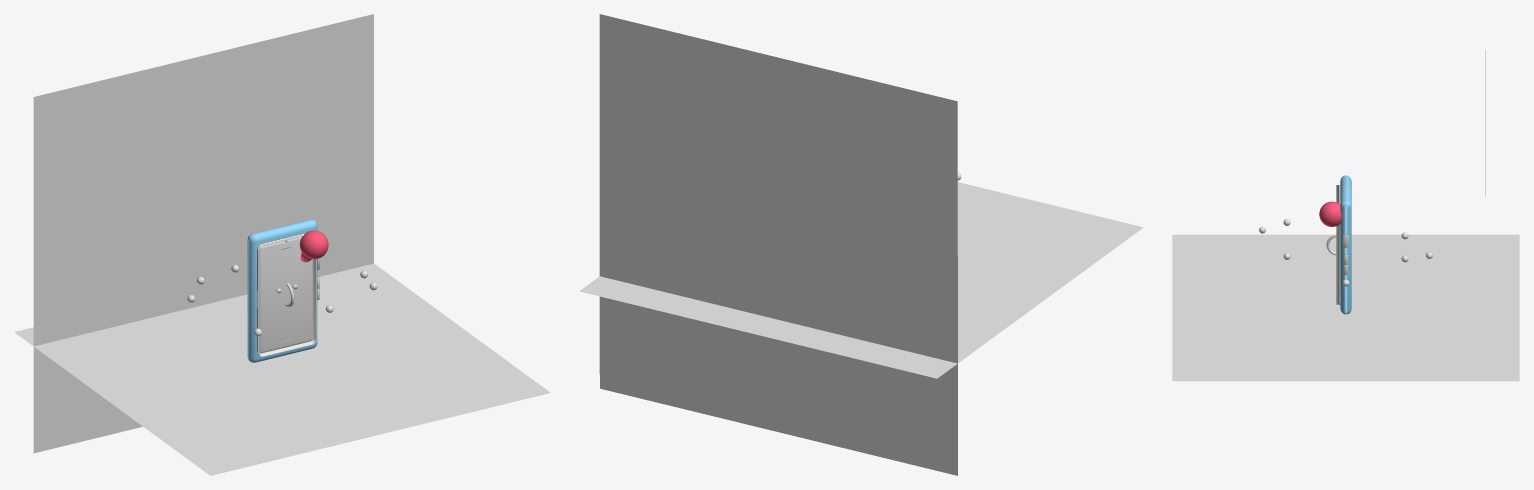
Rendered from animation.glb.
3 views of the same model, side by side, from view 1: azimuth 30°, elevation 25°; view 2: azimuth 150°, elevation 25°; view 3: azimuth 270°, elevation 25° (orthographic). The views are drawn at different scales.
Visible parts, largest first — view 1: Background, Floor, Screen, Smartphone, Notification_Bubble; view 2: Background, Floor; view 3: Floor, Smartphone, Screen, Notification_Bubble.
Boxes of the visible parts, x1=… form: Background: x1=33, y1=14, x2=373, y2=453; Floor: x1=14, y1=263, x2=550, y2=475; Screen: x1=257, y1=233, x2=316, y2=356; Smartphone: x1=247, y1=219, x2=317, y2=362; Notification_Bubble: x1=299, y1=230, x2=328, y2=262; Background: x1=599, y1=14, x2=957, y2=475; Floor: x1=579, y1=182, x2=1143, y2=378; Floor: x1=1172, y1=234, x2=1519, y2=381; Smartphone: x1=1340, y1=175, x2=1351, y2=314; Screen: x1=1336, y1=185, x2=1340, y2=304; Notification_Bubble: x1=1319, y1=201, x2=1341, y2=226.
Bounding box in the file's own units: 5 × 5 × 5.
